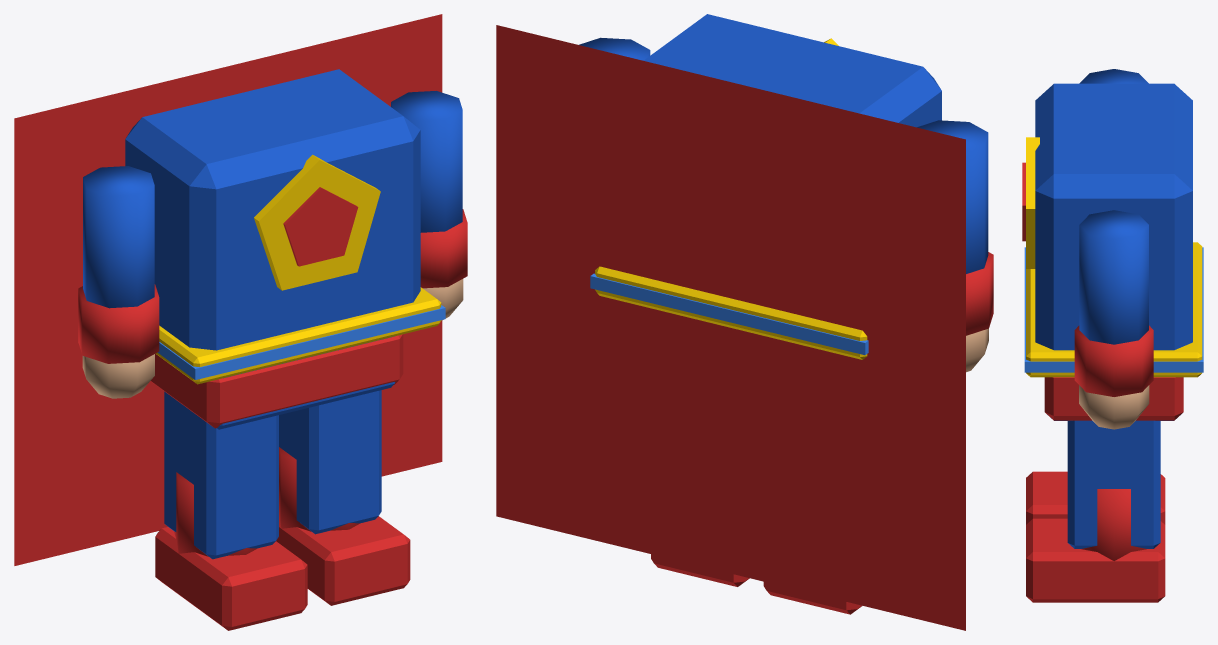
File: samy.glb
3 views of the same model, side by side, from view 1: azimuth 30°, elevation 25°; view 2: azimuth 150°, elevation 25°; view 3: azimuth 270°, elevation 25° (orthographic). The views are drawn at different scales.
Parts seen in each view (by area): view 1: cape_cloth, torso, thigh_L, thigh_R, briefs, shoe_L, upperarm_L, shoe_R, emblem, upperarm_R, belt, glove_L (+8 smaller); view 2: cape_cloth, torso, belt, upperarm_L, team_band, glove_L, shoe_L, shoe_R, upperarm_R, hand_L; view 3: torso, thigh_R, upperarm_R, shoe_R, glove_R, belt, briefs, boot_R, shoe_L, hand_R, team_band, emblem (+2 smaller).
Part boxes in pixels (bbox=[...]): cape_cloth: bbox=[14, 14, 442, 565]; torso: bbox=[125, 69, 420, 350]; thigh_L: bbox=[164, 391, 278, 559]; thigh_R: bbox=[279, 390, 381, 534]; briefs: bbox=[150, 334, 403, 428]; shoe_L: bbox=[155, 527, 307, 630]; upperarm_L: bbox=[83, 166, 154, 308]; shoe_R: bbox=[276, 515, 410, 605]; emblem: bbox=[254, 154, 380, 290]; upperarm_R: bbox=[391, 91, 462, 232]; belt: bbox=[155, 287, 441, 384]; glove_L: bbox=[78, 284, 159, 363]; cape_cloth: bbox=[496, 25, 965, 630]; torso: bbox=[643, 14, 941, 127]; belt: bbox=[595, 266, 867, 359]; upperarm_L: bbox=[917, 120, 988, 273]; team_band: bbox=[590, 273, 868, 355]; glove_L: bbox=[966, 252, 993, 335]; shoe_L: bbox=[763, 581, 862, 614]; shoe_R: bbox=[651, 554, 749, 586]; upperarm_R: bbox=[579, 37, 650, 60]; hand_L: bbox=[966, 328, 988, 372]; torso: bbox=[1035, 83, 1192, 350]; thigh_R: bbox=[1067, 420, 1160, 548]; upperarm_R: bbox=[1079, 210, 1148, 344]; shoe_R: bbox=[1026, 518, 1165, 602]; glove_R: bbox=[1074, 325, 1153, 396]; belt: bbox=[1026, 242, 1202, 377]; briefs: bbox=[1044, 377, 1183, 420]; boot_R: bbox=[1081, 489, 1146, 560]; shoe_L: bbox=[1026, 471, 1165, 524]; hand_R: bbox=[1079, 385, 1149, 429]; team_band: bbox=[1024, 247, 1203, 372]; emblem: bbox=[1026, 137, 1039, 268].
Bounding box in the file's own units: 1 × 1.07 × 0.39.
